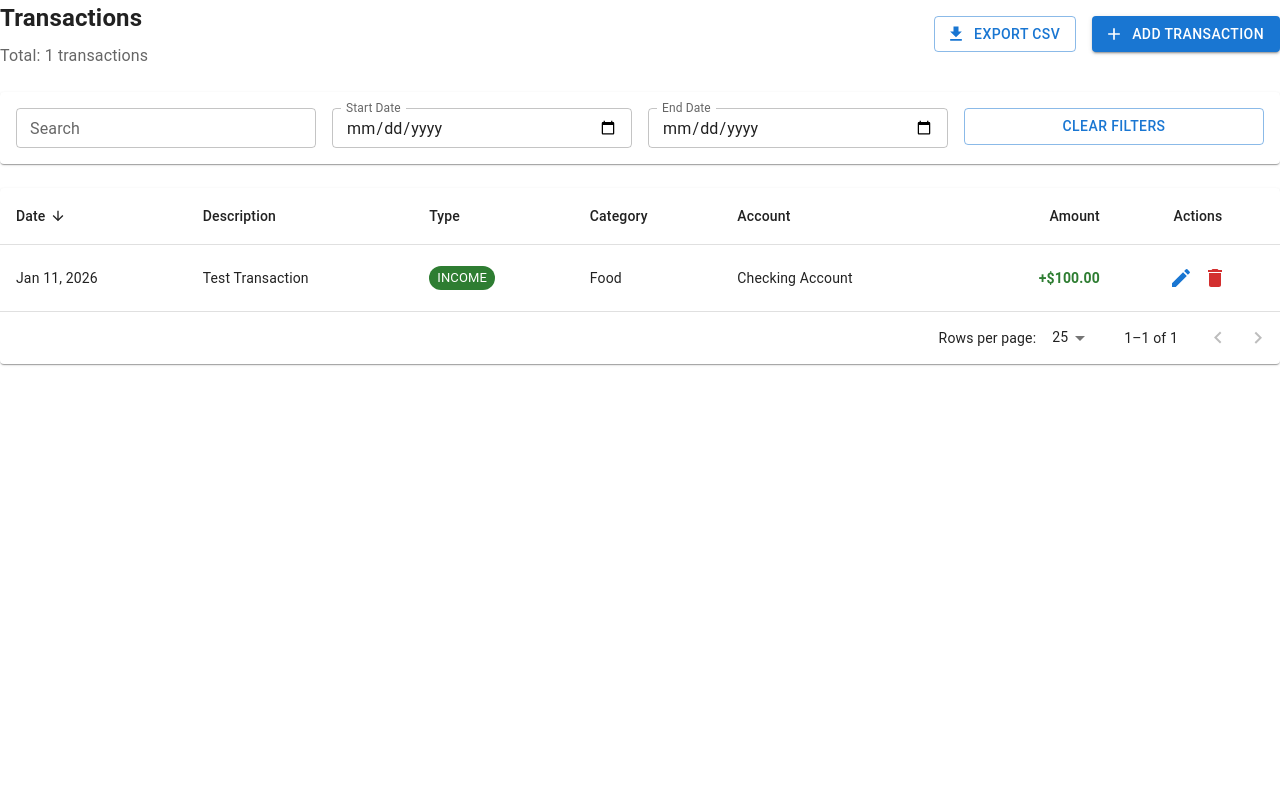
Test case: Transactions › Add Transaction Dialog › should show validation error when amount is invalid
Click the button "Add Transaction".
click(1186, 34)  # box [1092, 16, 1279, 52]
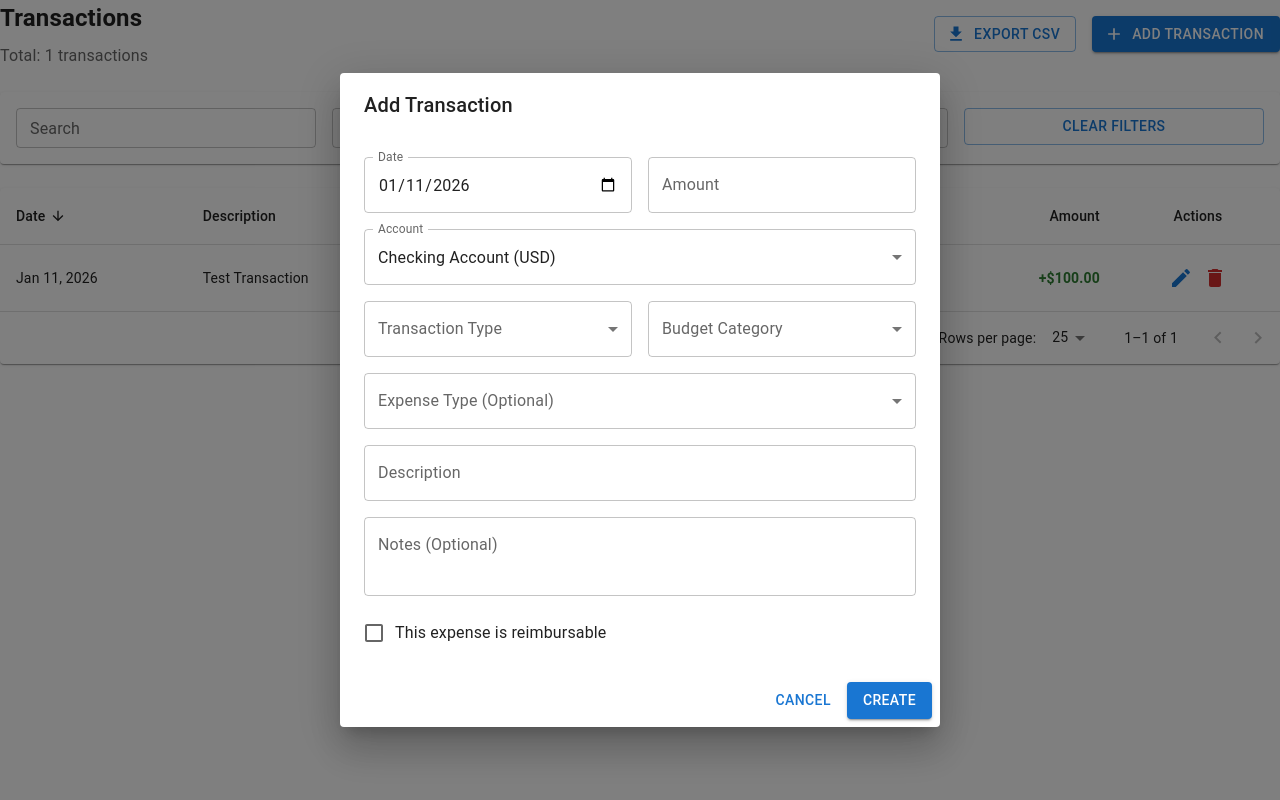
Expected: the number field labelled "Amount" is shown
Type "0" into the number field labelled "Amount".
click(782, 185); type("0")  # box [648, 157, 916, 213]
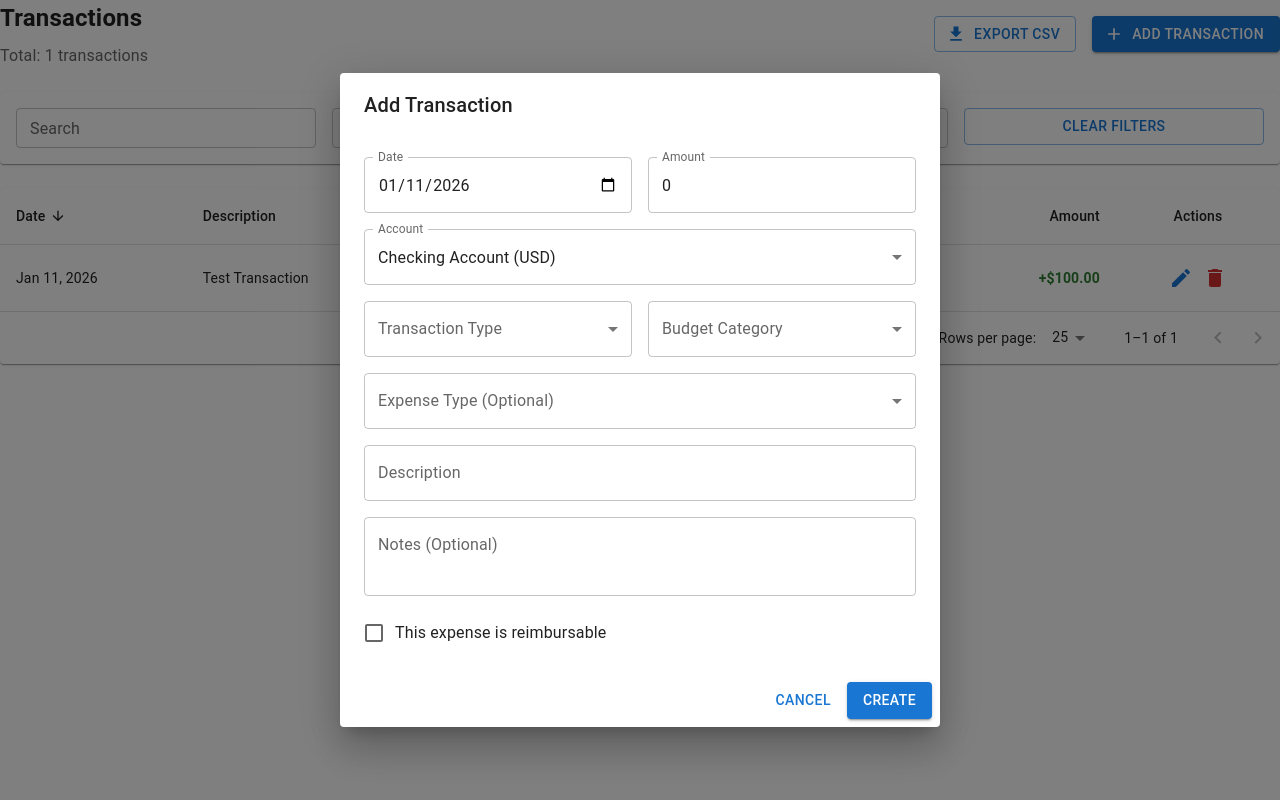
Click the button "Create".
click(889, 701)  # box [847, 682, 932, 719]
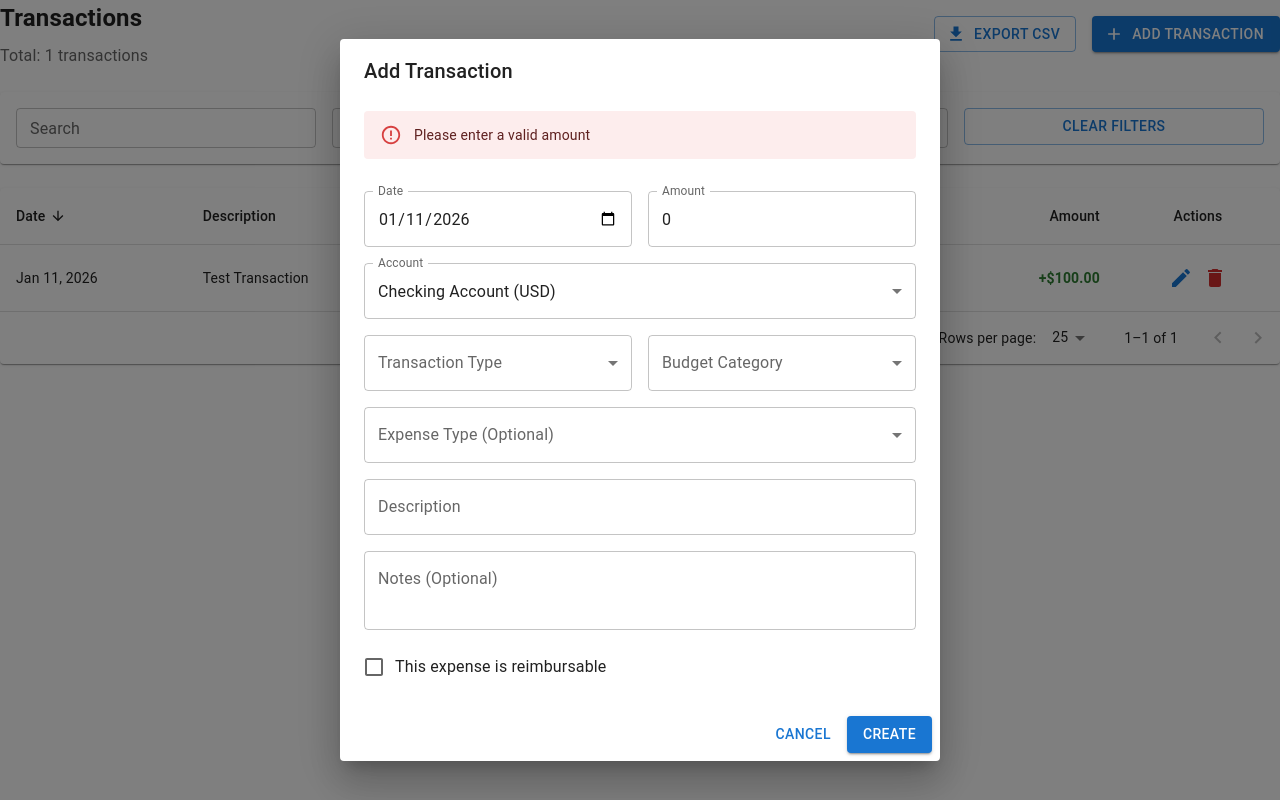
Expected: the text "Please enter a valid amount" is shown, [414, 127, 590, 143]
